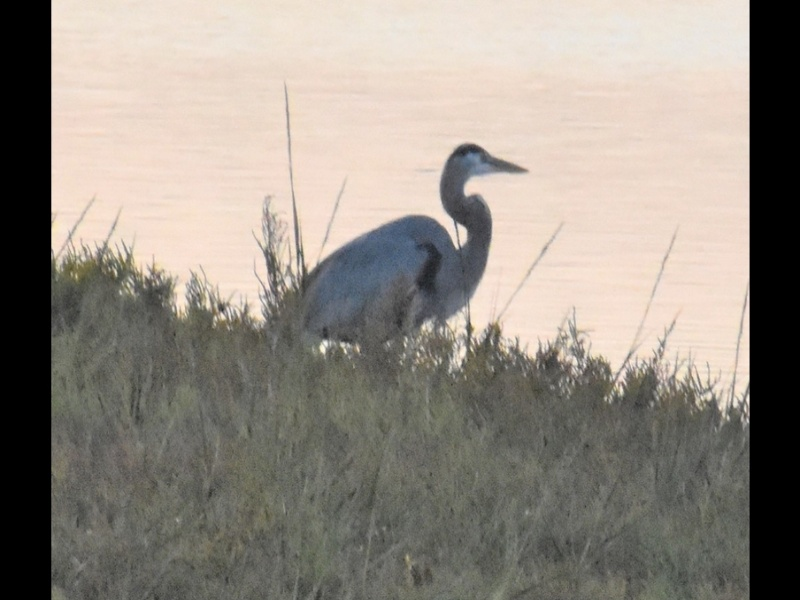heron: (284, 139, 531, 349)
